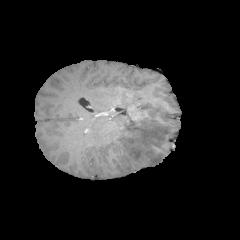glioma: (112, 113, 175, 173)
